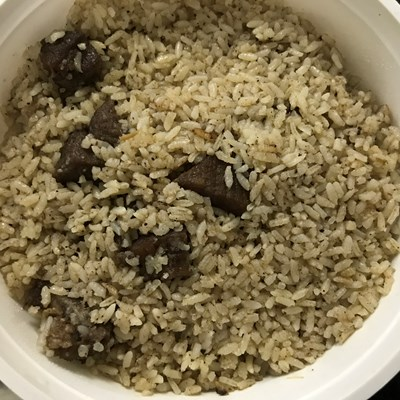rice: (10, 5, 396, 392)
